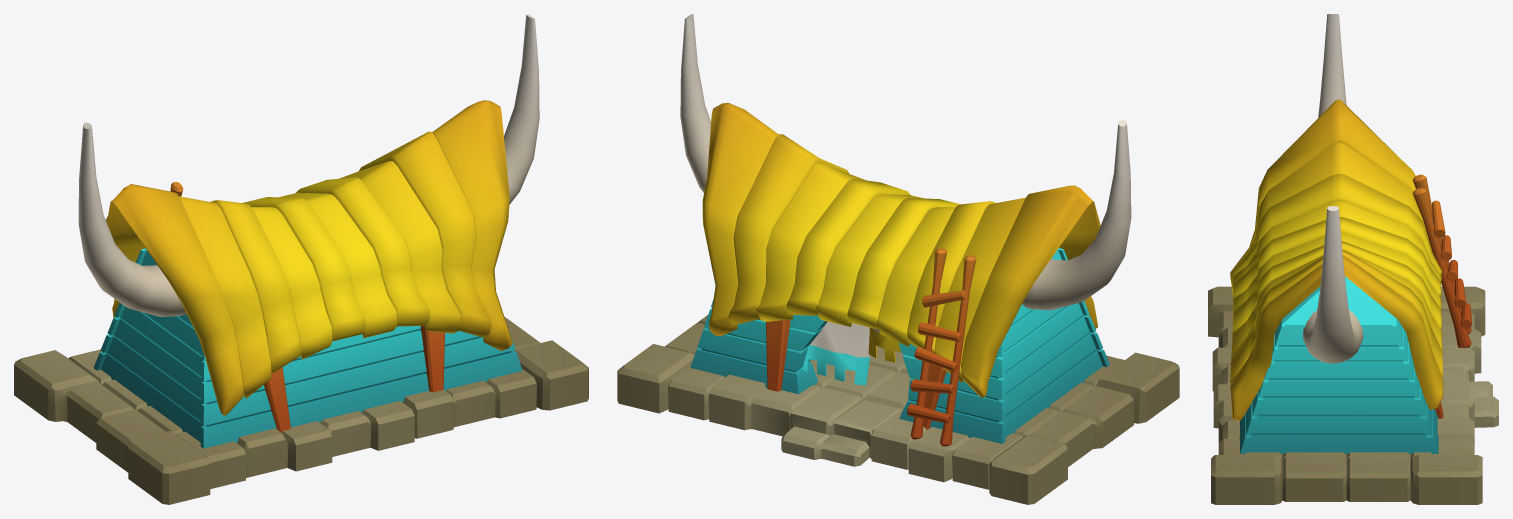
The model's file is House_5.FBX.
3 renders of one model, left to right at view 1: azimuth 30°, elevation 25°; view 2: azimuth 150°, elevation 25°; view 3: azimuth 270°, elevation 25°, orthographic. The views are drawn at different scales.
Parts seen in each view (by area): view 1: House_5; view 2: House_5; view 3: House_5.
Part boxes in pixels (<box>): House_5: <box>14,14,588,504</box>; House_5: <box>617,14,1179,504</box>; House_5: <box>1208,14,1498,504</box>.
Bounding box in the file's own units: 42.42 × 29.66 × 25.98.
Materials: 1 (1 with a texture image).
